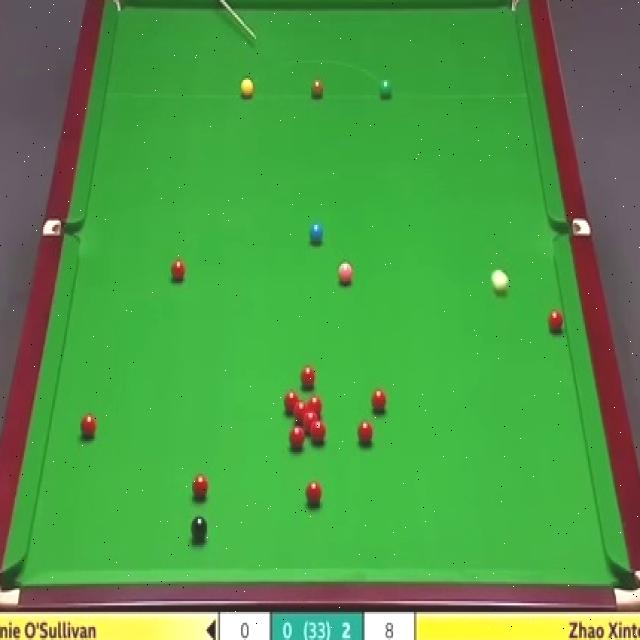black-ball: (190, 517, 208, 546)
blue-ball: (309, 220, 324, 246)
brown-ball: (311, 76, 324, 99)
green-ball: (378, 80, 392, 101)
pink-ball: (338, 261, 353, 285)
red-ball: (356, 419, 375, 449), (369, 386, 388, 416), (305, 478, 322, 508), (547, 307, 565, 335), (80, 410, 96, 440), (192, 474, 210, 499), (289, 424, 304, 452), (300, 365, 315, 392), (311, 420, 326, 444), (284, 390, 298, 414), (171, 258, 185, 281), (308, 396, 322, 417), (294, 401, 308, 421), (304, 412, 318, 432)
white-ball: (491, 268, 509, 296)
yellow-ball: (240, 78, 254, 100)
